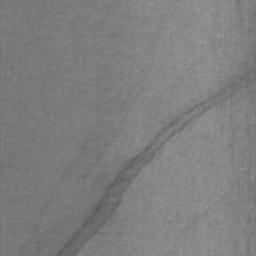Water spot: (15, 31, 253, 256), (163, 177, 256, 256)
